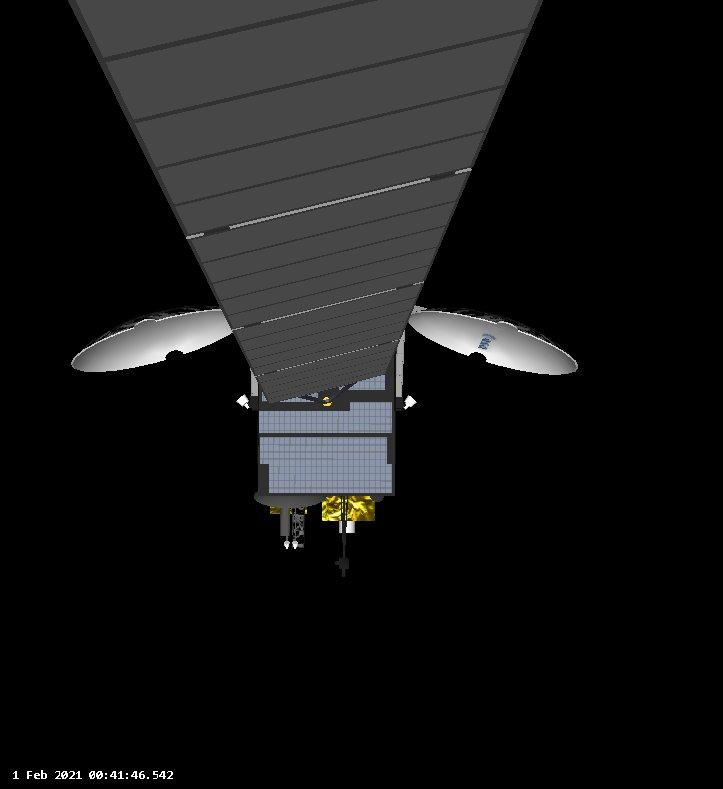antenna: (406, 304, 582, 378), (68, 303, 236, 374)
body: (253, 310, 407, 511)
solar: (71, 0, 541, 406), (258, 435, 394, 495), (257, 400, 395, 434)
thruster: (401, 393, 419, 411), (234, 392, 250, 410)
